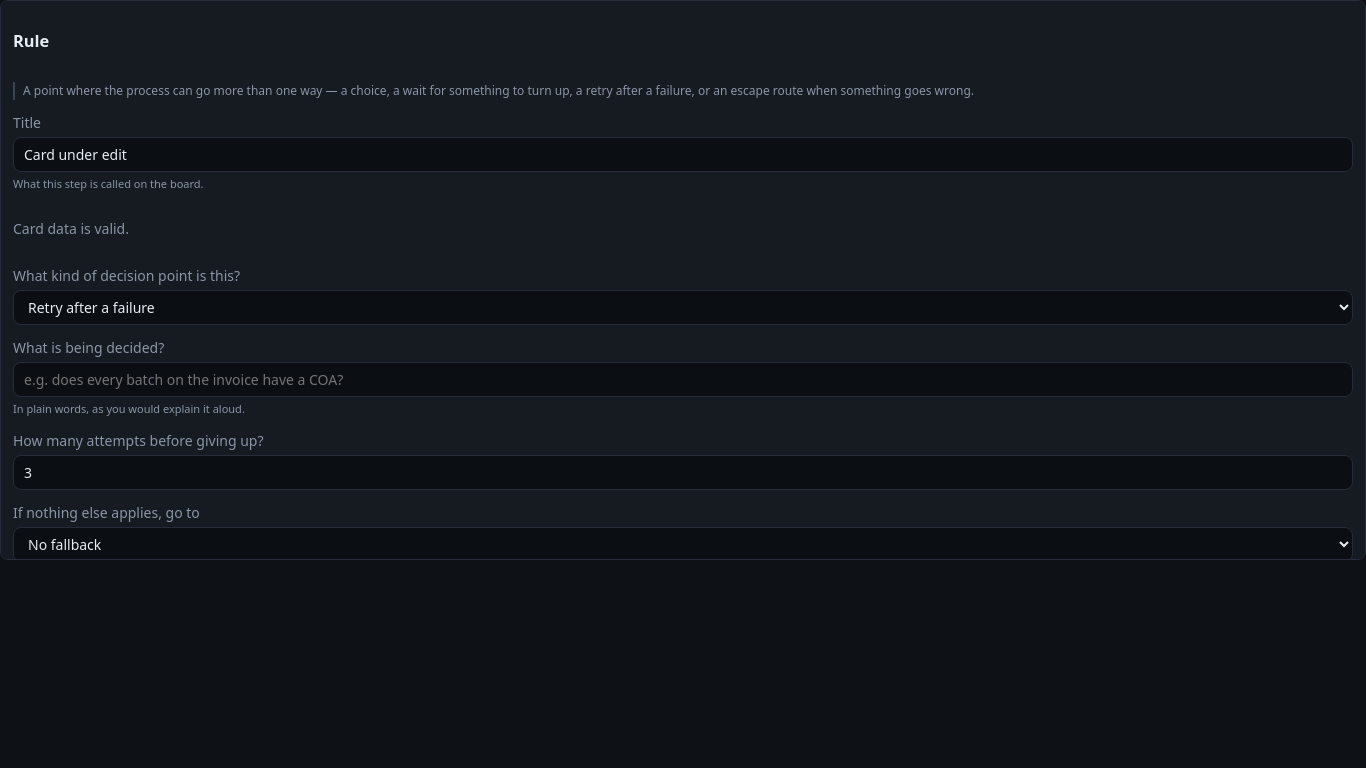
Test: editing a card › shows a retry rule its attempt limit and a wait rule its timeout, never both
Expected: the number field with test id "rule-max-attempts" is shown, [13,455,1353,490]
Select "Wait for something" in the dropdown with test id "rule-kind" at (683, 308), box [13,290,1353,325]
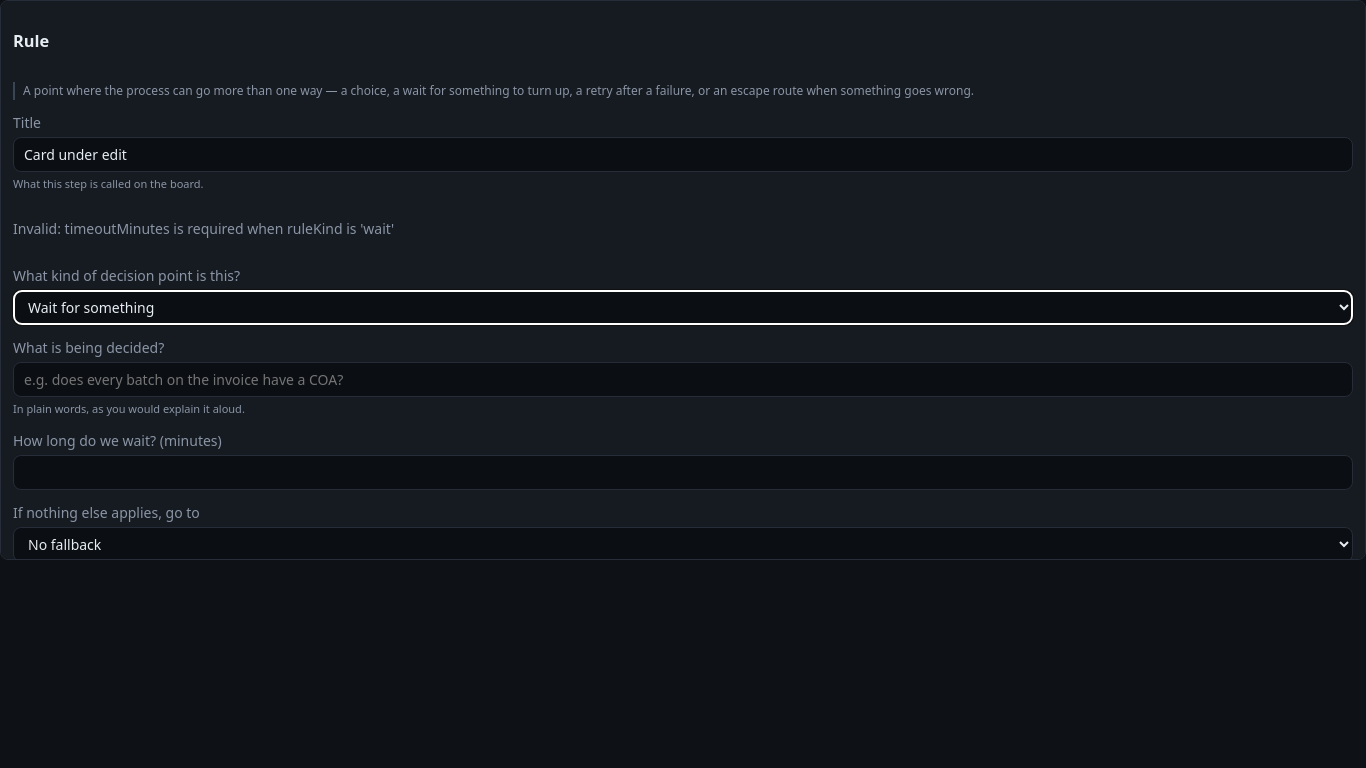
Now the number field with test id "rule-timeout" is shown, box [13,455,1353,490]
Now the number field with test id "rule-max-attempts" is gone
